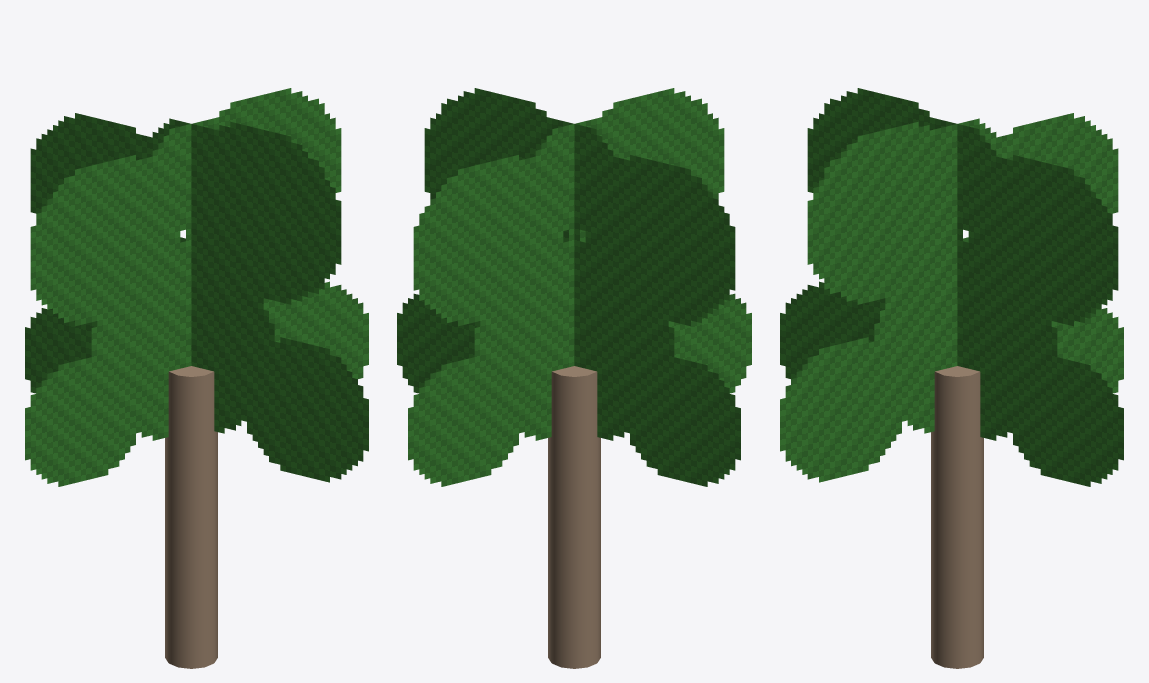
File: Tree.gltf
3 views of the same model, side by side, from view 1: azimuth 30°, elevation 25°; view 2: azimuth 150°, elevation 25°; view 3: azimuth 270°, elevation 25° (orthographic).
Parts seen in each view (by area): view 1: Leaves, Trunk; view 2: Leaves, Trunk; view 3: Leaves, Trunk.
Boxes of the visible parts, x1,y1,x2,y2 form: Leaves: [25, 88, 368, 486]; Trunk: [165, 366, 217, 668]; Leaves: [397, 88, 751, 486]; Trunk: [548, 366, 600, 668]; Leaves: [780, 88, 1123, 486]; Trunk: [931, 366, 983, 668].
Size of the model in its own units: 2.8 by 4.2 by 2.42.
2 materials, 1 textured.
